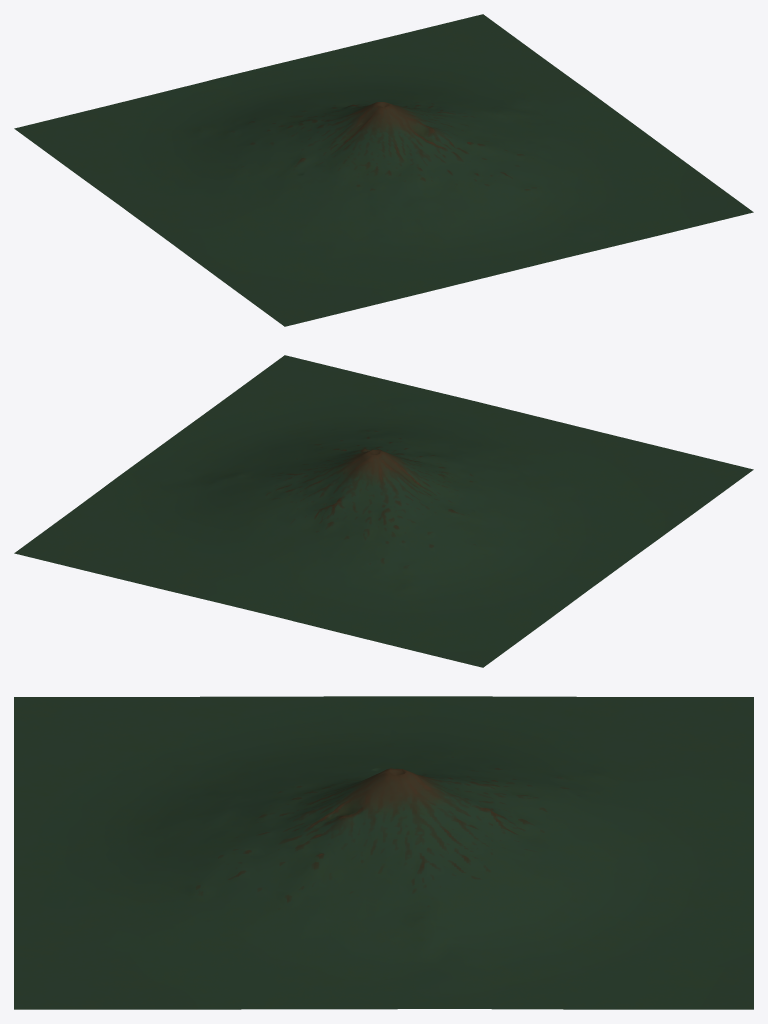
File: Mt.Fuji.fbx
3 views of the same model, one above another, from view 1: azimuth 30°, elevation 25°; view 2: azimuth 150°, elevation 25°; view 3: azimuth 270°, elevation 25° (orthographic). The views are drawn at different scales.
Visible parts, largest first — view 1: Mt.Fuji_low; view 2: Mt.Fuji_low; view 3: Mt.Fuji_low.
Boxes of the visible parts, x1,y1,x2,y2 form: Mt.Fuji_low: (14, 14, 753, 326); Mt.Fuji_low: (14, 355, 753, 667); Mt.Fuji_low: (14, 696, 753, 1009).
Bounding box in the file's own units: 20032 × 2518 × 20032.
